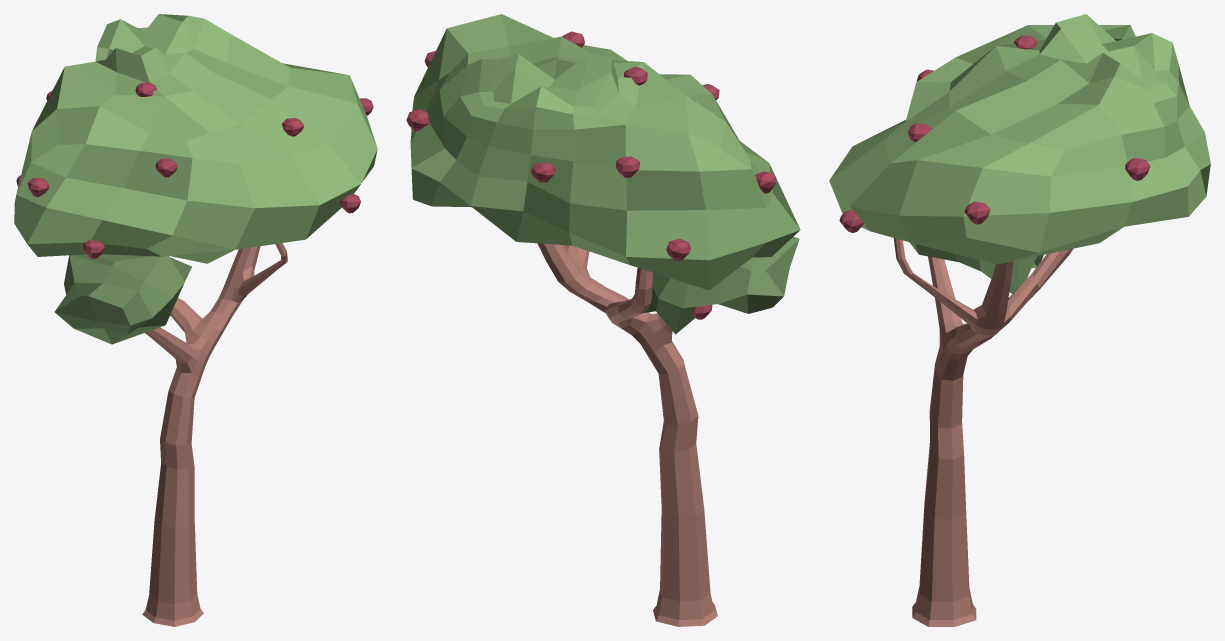
Rendered from apple.glb.
3 views of the same model, side by side, from view 1: azimuth 30°, elevation 25°; view 2: azimuth 150°, elevation 25°; view 3: azimuth 270°, elevation 25° (orthographic). The views are drawn at different scales.
Parts seen in each view (by area): view 1: Apple_4; view 2: Apple_4; view 3: Apple_4.
Boxes of the visible parts, x1=… form: Apple_4: x1=14, y1=14, x2=377, y2=626; Apple_4: x1=406, y1=14, x2=800, y2=626; Apple_4: x1=829, y1=14, x2=1210, y2=626.
Size of the model in its own units: 1.86 by 2.76 by 1.58.
